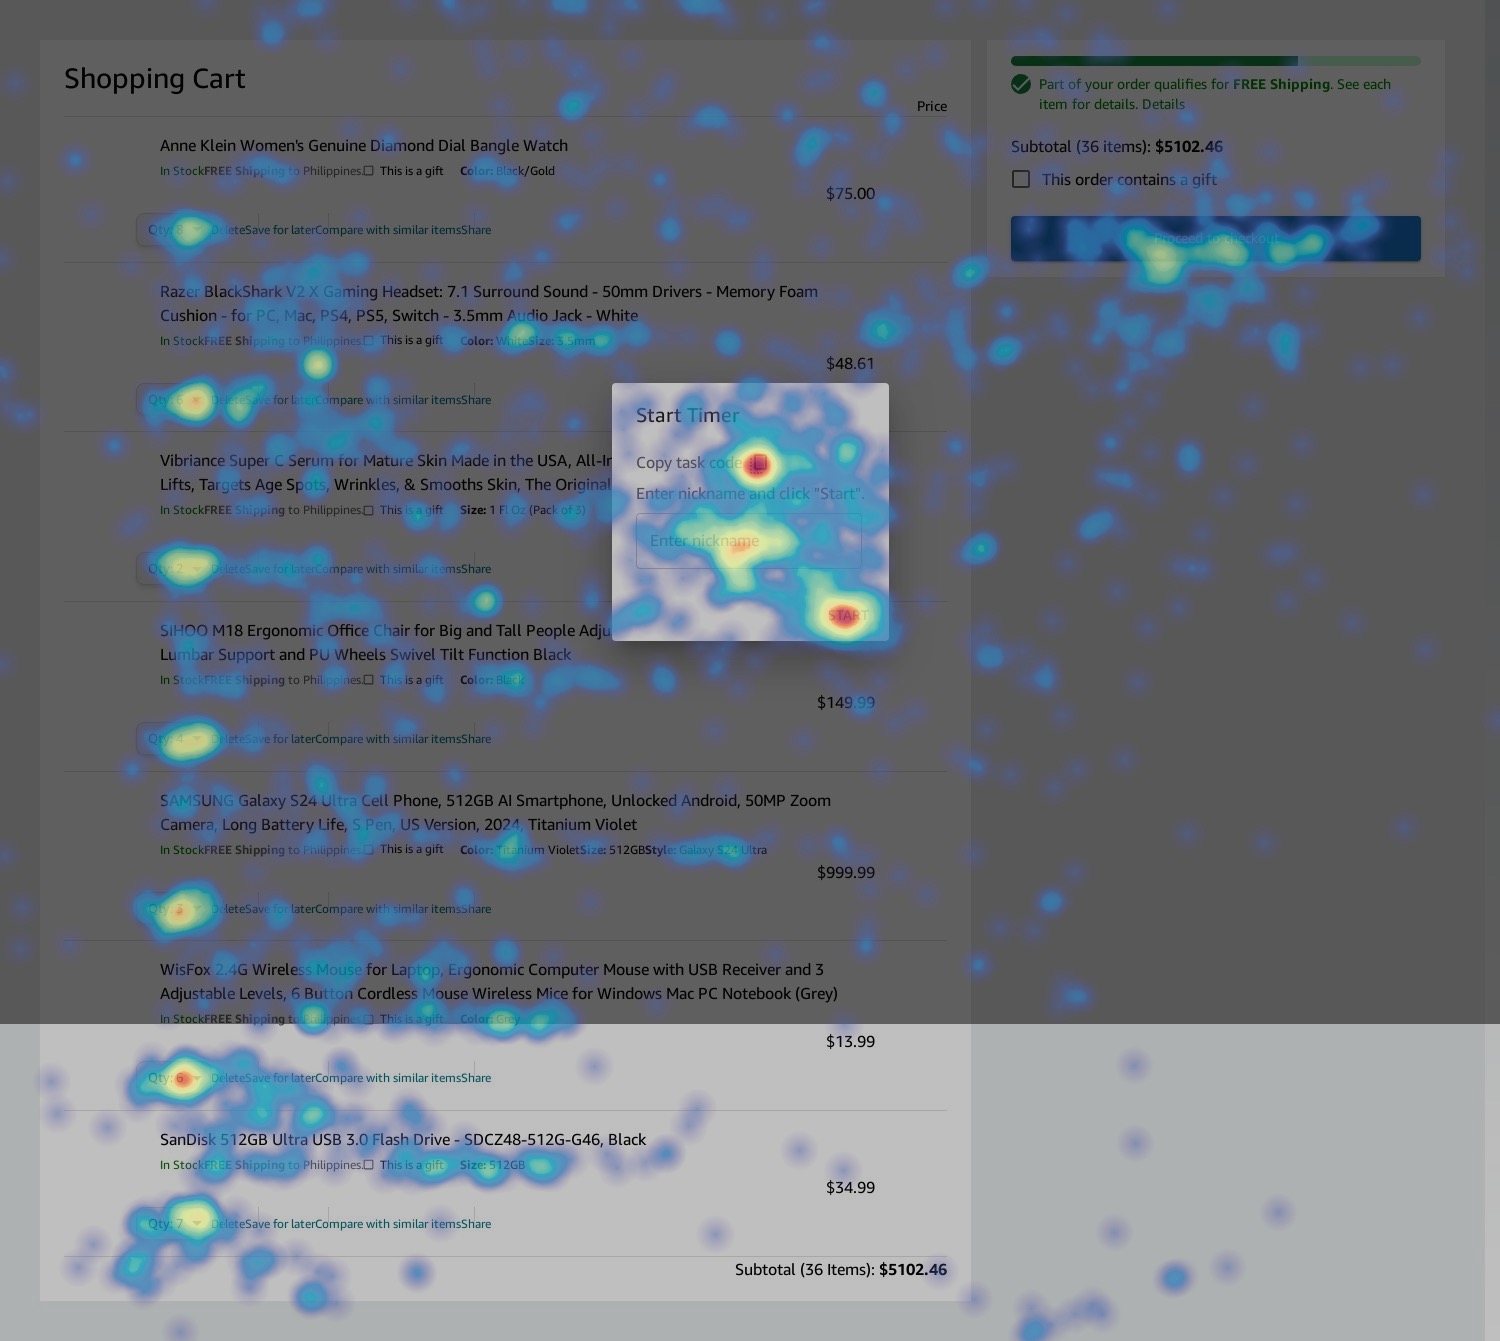checkout: (1009, 216, 1421, 260)
nickname: (635, 514, 862, 567)
qty: (140, 214, 212, 245), (142, 551, 215, 582), (145, 718, 217, 749), (142, 893, 215, 924), (142, 386, 214, 417), (137, 1061, 208, 1092), (138, 1209, 210, 1240)
start: (809, 594, 880, 633)
task_code: (744, 449, 777, 478)
